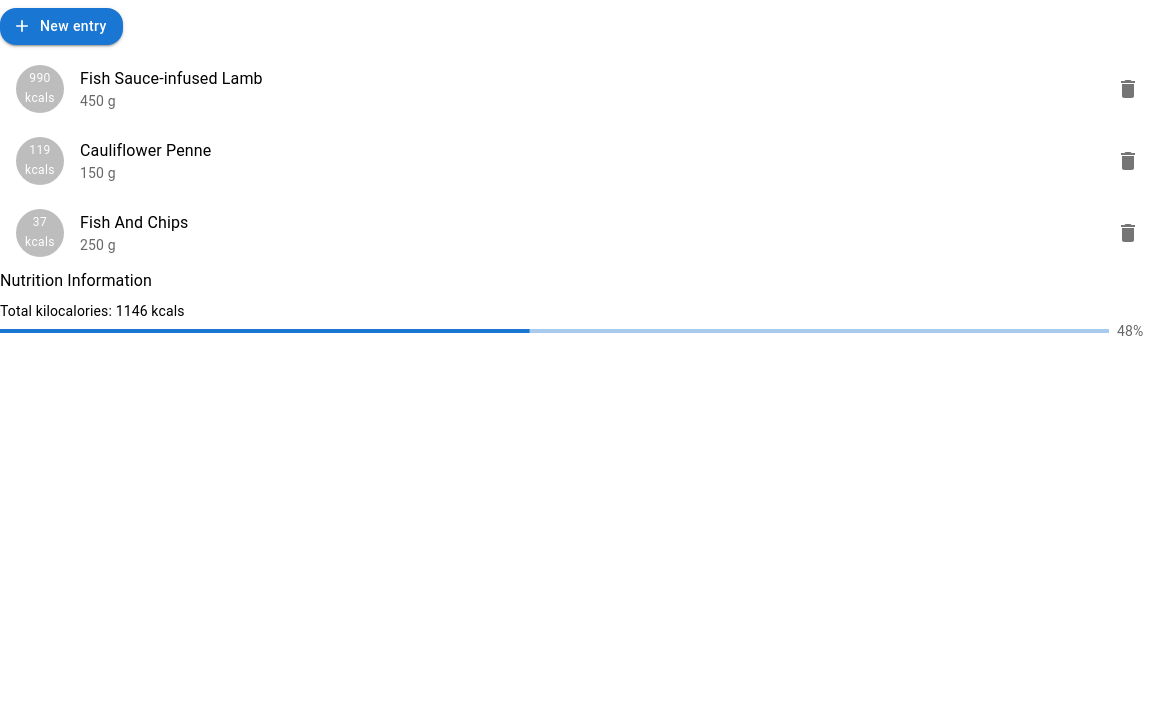
Test case: deleting food items › should communicate API error
The width and height of the screenshot is (1152, 720).
Click the button named "delete" in the row of "990 kcals".
click(1128, 88)  # box top-left (1108, 68), bottom-right (1148, 108)
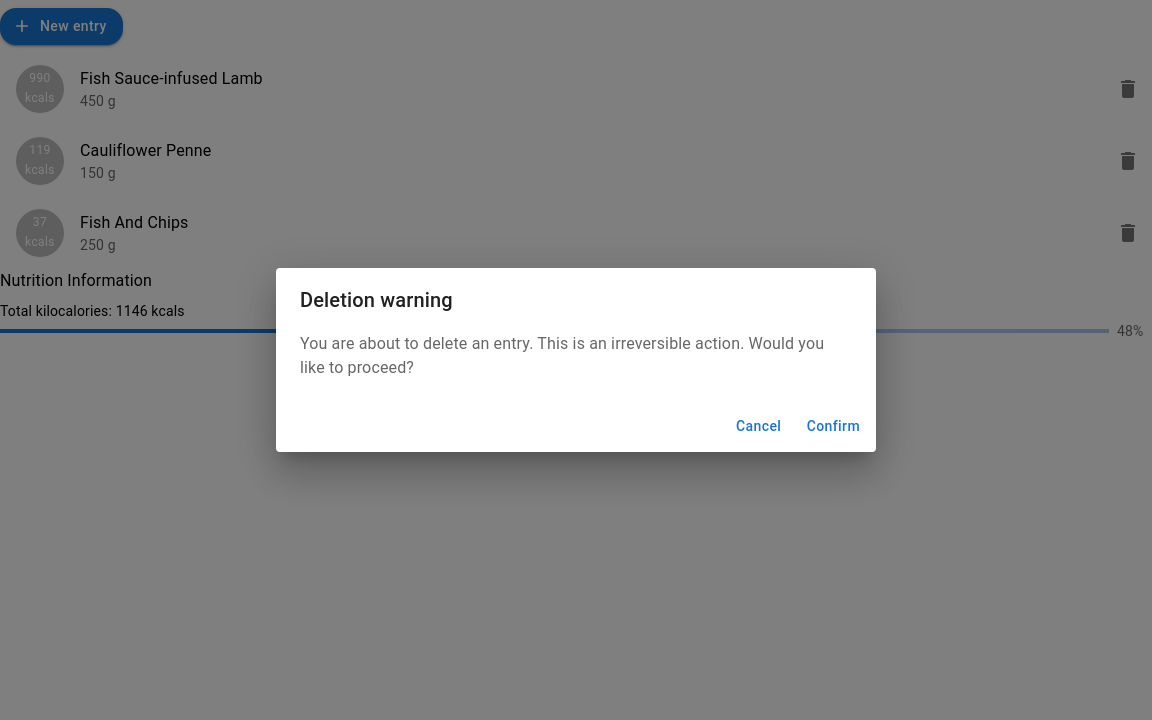
Click the button with test id "confirm-button".
click(833, 426)  # box top-left (799, 408), bottom-right (868, 444)
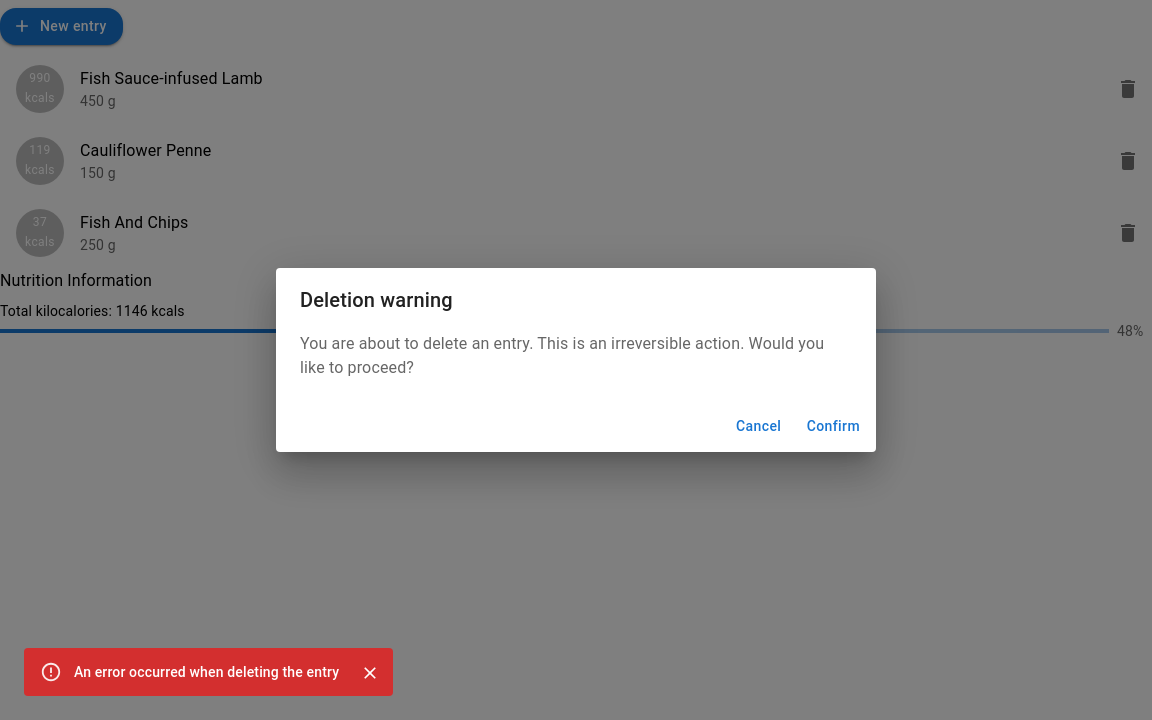
Expected: the element with test id "snackbar" is shown, top-left (24, 648), bottom-right (393, 696)
Expected: the element with test id "snackbar" reads "An error occurred when deleting the entry", top-left (74, 664), bottom-right (339, 680)
